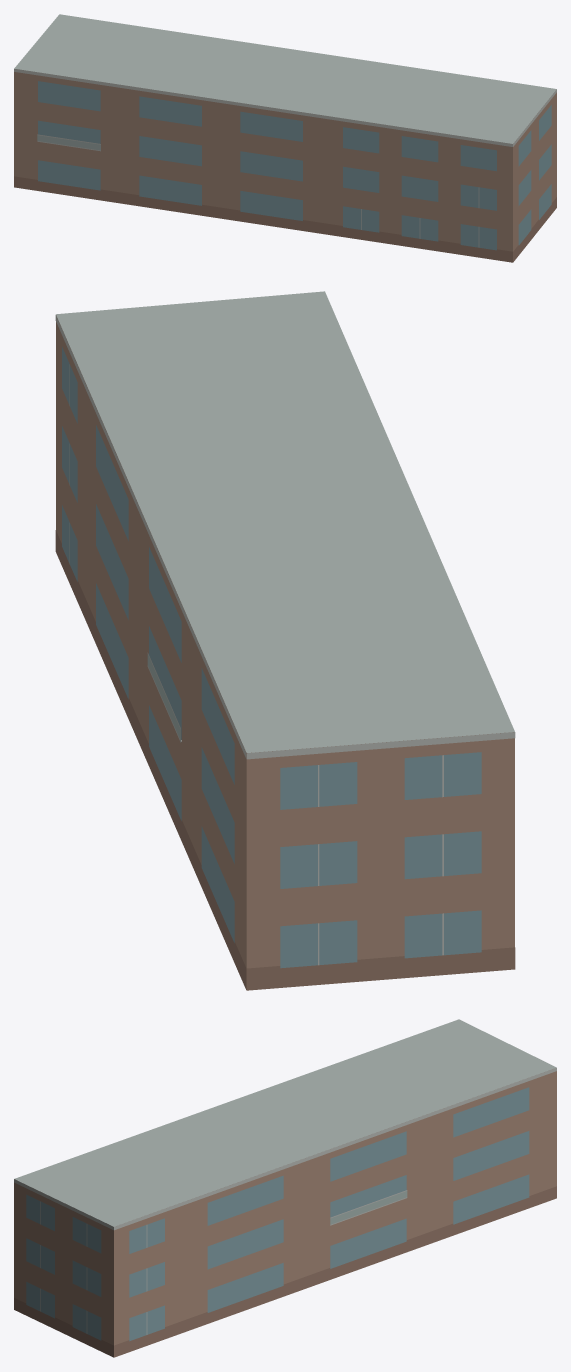
The model's file is survey-upis-32760644.glb.
3 renders of one model, top to bottom at view 1: azimuth 30°, elevation 25°; view 2: azimuth 150°, elevation 25°; view 3: azimuth 270°, elevation 25°, orthographic. The views are drawn at different scales.
Visible parts, largest first — view 1: survey-upis-32760644.tmp; view 2: survey-upis-32760644.tmp; view 3: survey-upis-32760644.tmp.
Part boxes in pixels (bbox=[...]): survey-upis-32760644.tmp: bbox=[14, 14, 556, 262]; survey-upis-32760644.tmp: bbox=[55, 291, 515, 990]; survey-upis-32760644.tmp: bbox=[14, 1019, 556, 1357].
Size of the model in its own units: 31.16 by 9.15 by 34.43.
